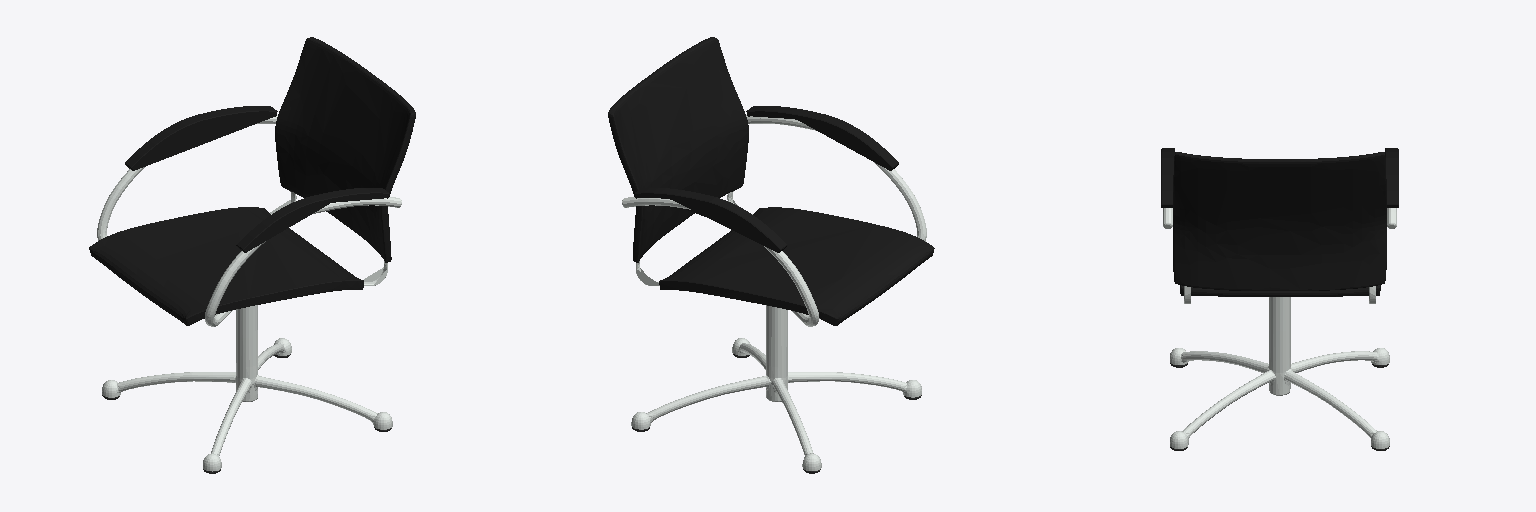
The model's file is chair.obj.
3 views of the same model, side by side, from view 1: azimuth 30°, elevation 25°; view 2: azimuth 150°, elevation 25°; view 3: azimuth 270°, elevation 25° (orthographic).
Parts seen in each view (by area): view 1: Mesh9 Group4 ___1 Model, Mesh8 Group4 ___1 Model, Mesh5 Group2 ___1 Model, Mesh10 Group5 ___1 Model, Mesh11 Group5 ___1 Model, Mesh12 Group6 ___1 Model; view 2: Mesh9 Group4 ___1 Model, Mesh8 Group4 ___1 Model, Mesh5 Group2 ___1 Model, Mesh10 Group5 ___1 Model, Mesh12 Group6 ___1 Model, Mesh11 Group5 ___1 Model; view 3: Mesh9 Group4 ___1 Model, Mesh5 Group2 ___1 Model, Mesh8 Group4 ___1 Model, Mesh10 Group5 ___1 Model, Mesh11 Group5 ___1 Model.
Part boxes in pixels (left/top/right/bottom): Mesh9 Group4 ___1 Model: left=275, top=37, right=415, bottom=262; Mesh8 Group4 ___1 Model: left=89, top=207, right=363, bottom=325; Mesh5 Group2 ___1 Model: left=102, top=305, right=392, bottom=471; Mesh10 Group5 ___1 Model: left=125, top=106, right=277, bottom=170; Mesh11 Group5 ___1 Model: left=236, top=188, right=389, bottom=252; Mesh12 Group6 ___1 Model: left=97, top=115, right=401, bottom=326; Mesh9 Group4 ___1 Model: left=608, top=37, right=748, bottom=262; Mesh8 Group4 ___1 Model: left=659, top=207, right=934, bottom=325; Mesh5 Group2 ___1 Model: left=631, top=305, right=921, bottom=470; Mesh10 Group5 ___1 Model: left=634, top=188, right=787, bottom=252; Mesh12 Group6 ___1 Model: left=622, top=115, right=926, bottom=326; Mesh11 Group5 ___1 Model: left=746, top=106, right=898, bottom=170; Mesh9 Group4 ___1 Model: left=1173, top=152, right=1386, bottom=290; Mesh5 Group2 ___1 Model: left=1170, top=297, right=1389, bottom=448; Mesh8 Group4 ___1 Model: left=1180, top=285, right=1380, bottom=296; Mesh10 Group5 ___1 Model: left=1385, top=148, right=1398, bottom=207; Mesh11 Group5 ___1 Model: left=1161, top=148, right=1174, bottom=207.
Size of the model in its own units: 122 by 153 by 107.